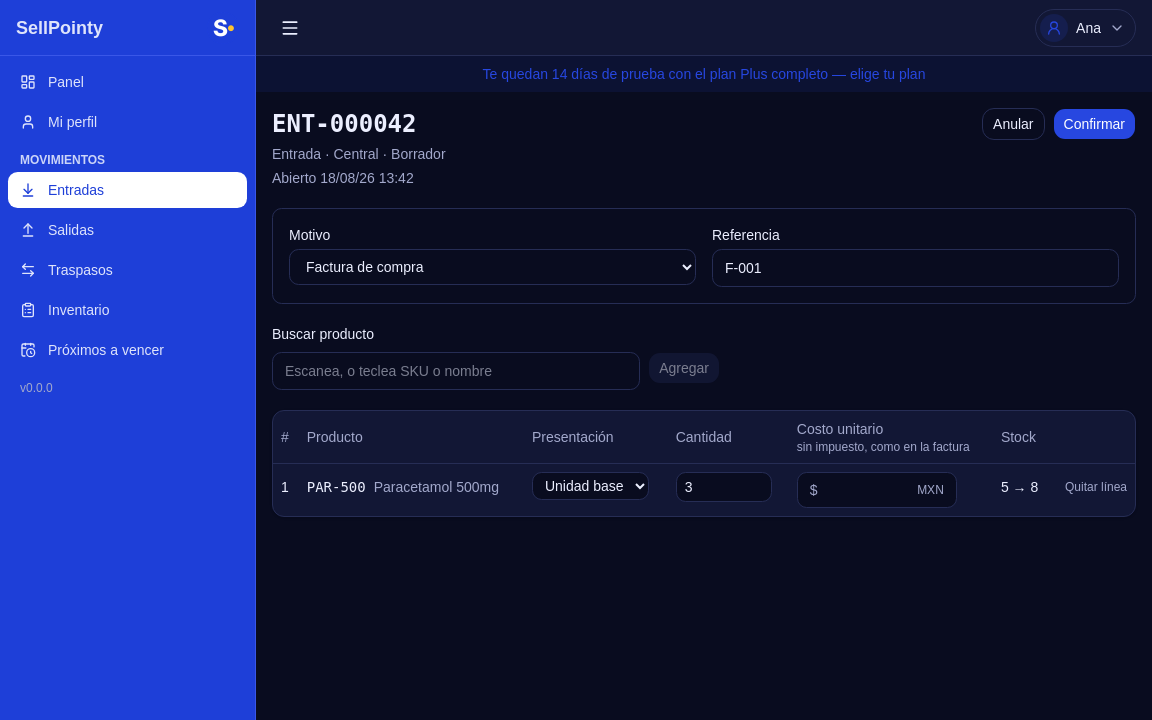
it: La cara de entrada del documento (F3-ENTRY-02) › el confirm que falla LO DICE › un 409 del confirmar aparece como error visible, no se traga
Check: the text "PAR-500" is shown, box [307,477,366,497]
Click the button "Confirmar" at point(1094, 124), box [1052,108,1136,140]
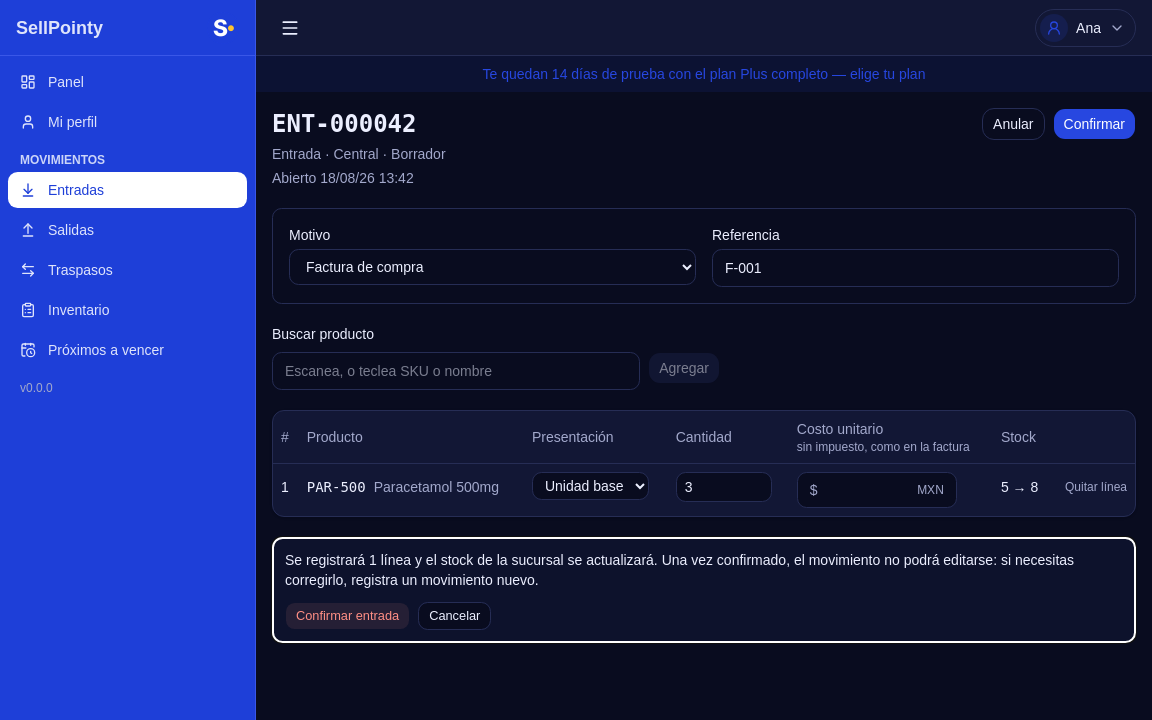
Click the button "Confirmar entrada" at point(348, 616), box [285,602,410,630]
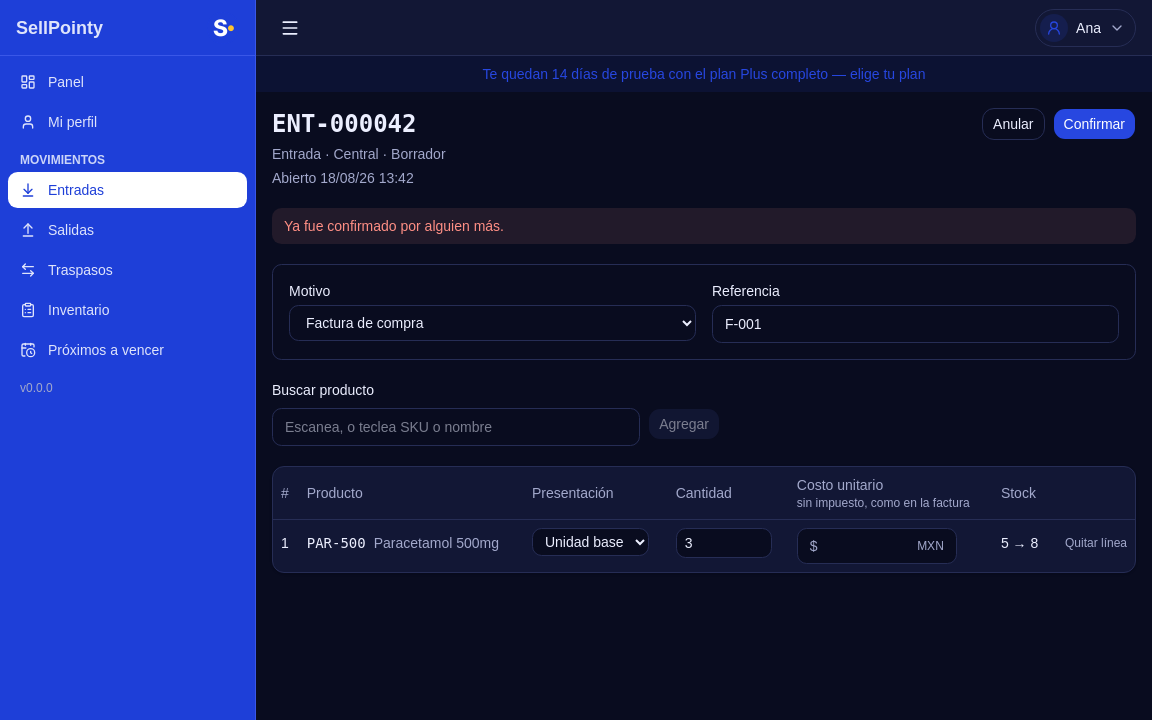
Check: the text "Entrada · Central · Borrador" is shown, box [272,144,446,164]
Check: the message reads "Ya fue confirmado por alguien más.", box [284,218,504,234]
